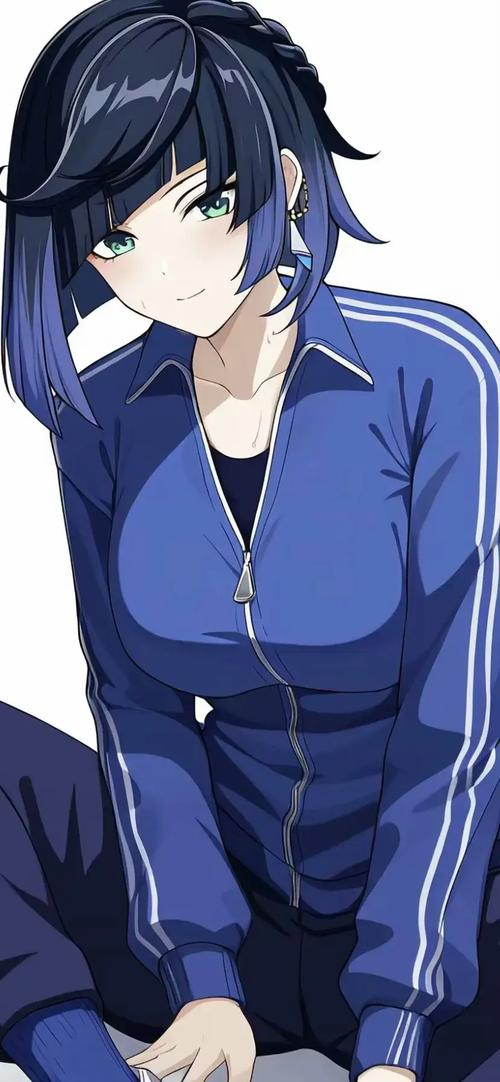夜兰: (4, 5, 500, 1082)
